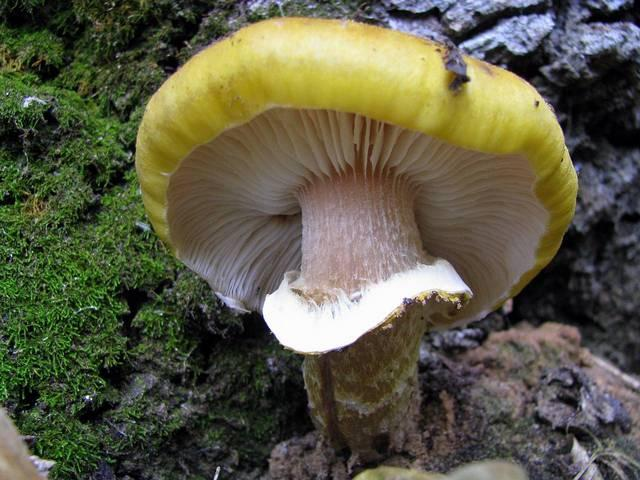Edible Mushroom: (133, 14, 579, 464)
